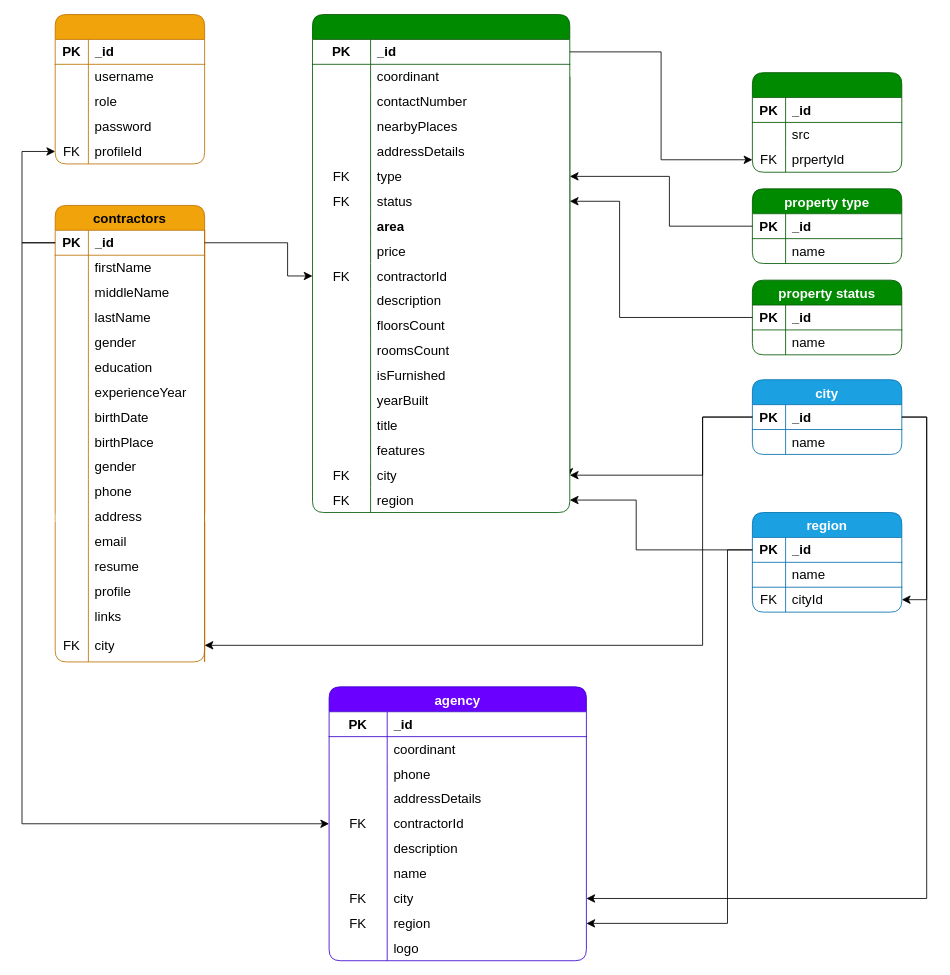
Image size: 950x975. Some labels were removed from this diagram. Here are the shapes that lost their labels. From the top down, the box of each, then its label:
(54, 14, 205, 164): users
(752, 72, 902, 172): property images
(312, 14, 570, 513): property
